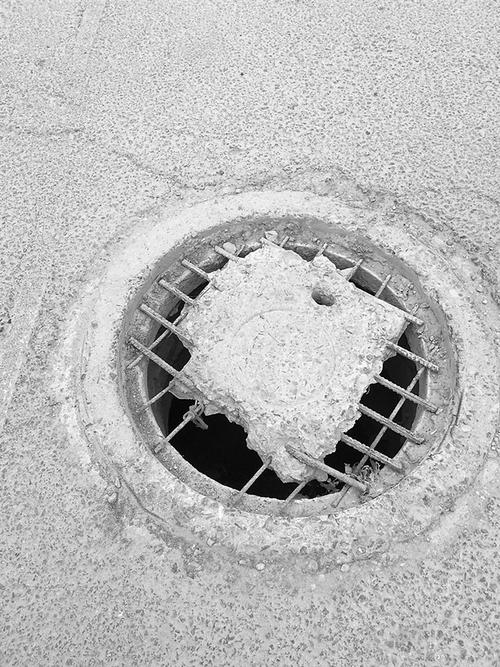broke: (72, 166, 489, 556)
